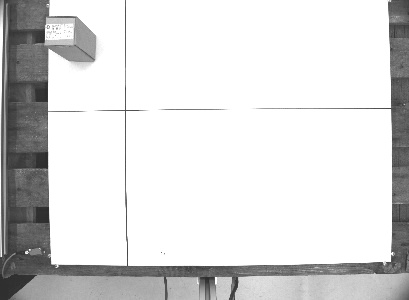b2: (42, 13, 98, 64)
